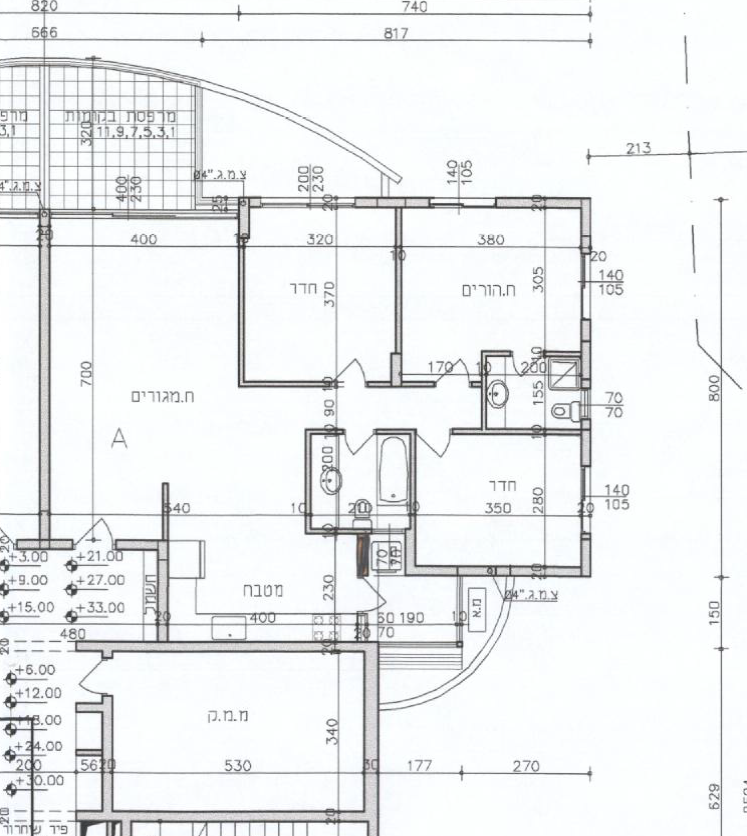wall: (38, 217, 50, 540), (76, 642, 378, 651), (77, 811, 379, 820)
window: (259, 196, 357, 209), (429, 196, 497, 210), (580, 252, 593, 321)
